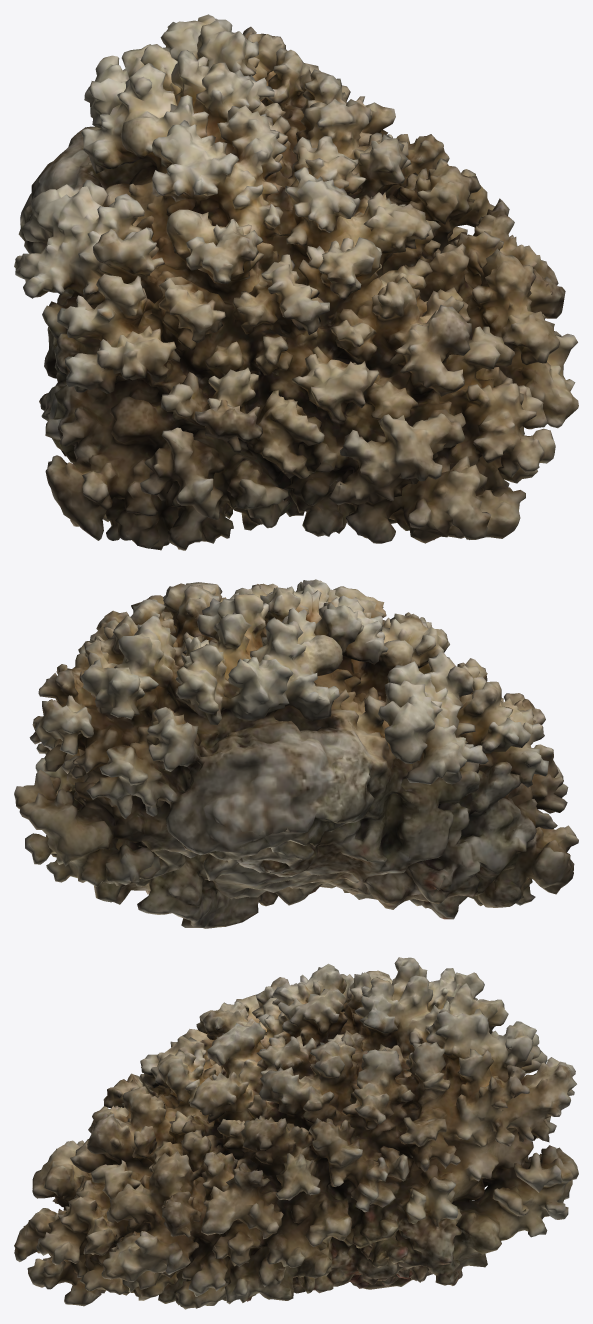
The model's file is pocillopora_lod1.glb.
3 views of the same model, one above another, from view 1: azimuth 30°, elevation 25°; view 2: azimuth 150°, elevation 25°; view 3: azimuth 270°, elevation 25° (orthographic). The views are drawn at different scales.
Visible parts, largest first — view 1: Pocillopora026_LOD1; view 2: Pocillopora026_LOD1; view 3: Pocillopora026_LOD1.
Part boxes in pixels (x1,y1,x2,y2): Pocillopora026_LOD1: (14,14,578,550); Pocillopora026_LOD1: (14,579,578,928); Pocillopora026_LOD1: (14,957,578,1309).
Bounding box in the file's own units: 0.6046 × 0.4318 × 0.7364.
1 material, 1 textured.
